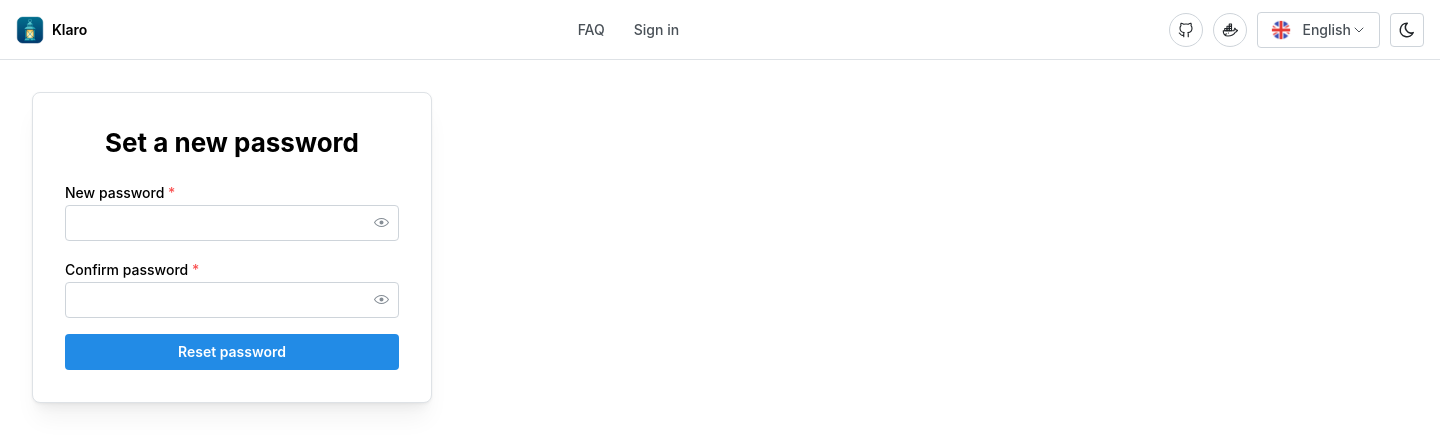
Scenario: ResetPassword › shows validation error when passwords do not match
In the password field labelled "New password *": (232, 223) [66, 206, 398, 240], type "password1"
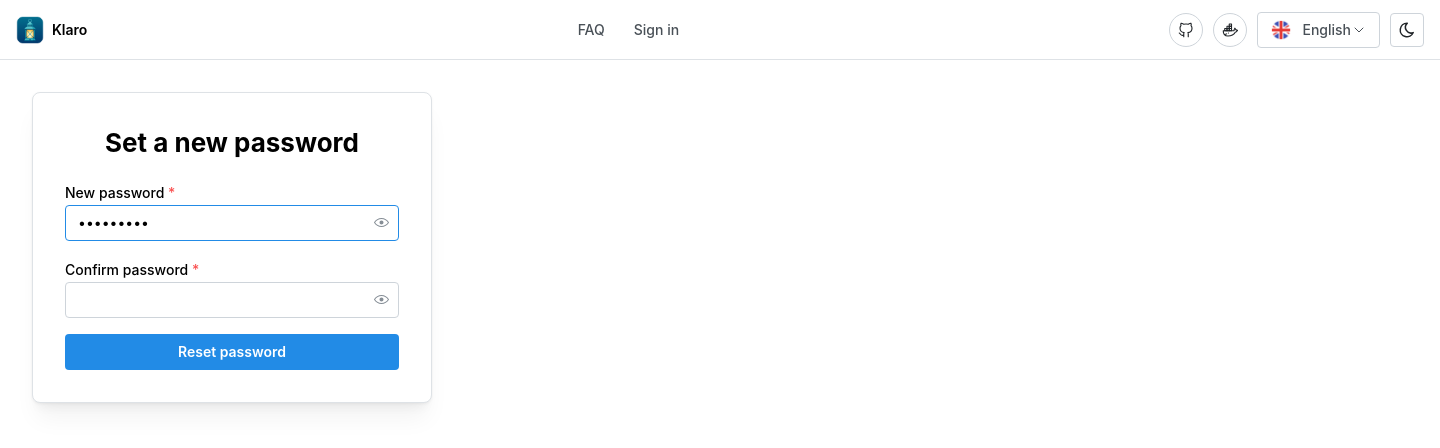
In the password field labelled "Confirm password *": (232, 300) [66, 283, 398, 317], type "password2"
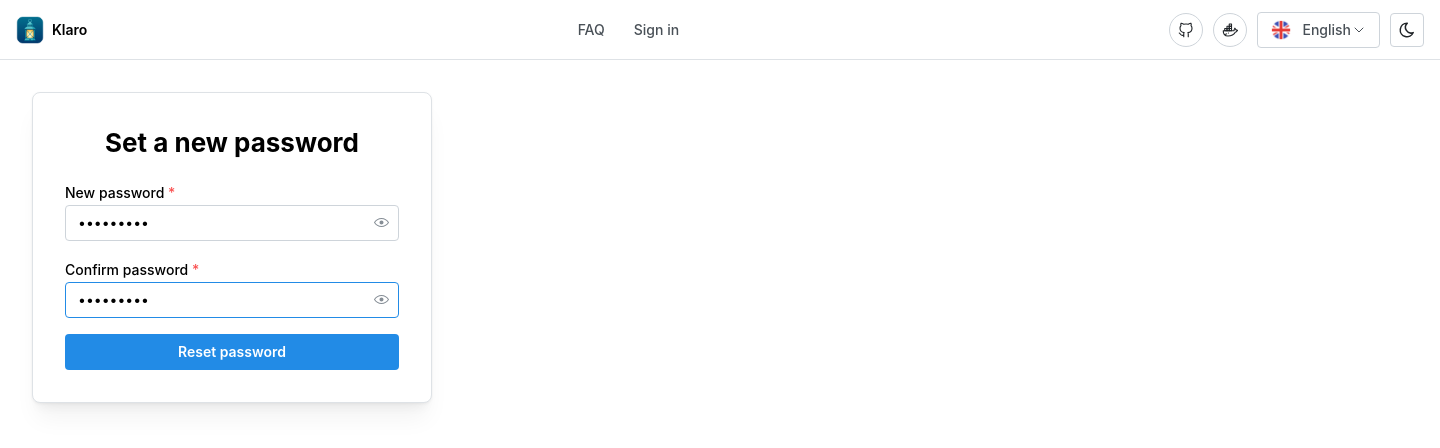
Click the button "Reset password": (232, 352) [65, 334, 399, 370]
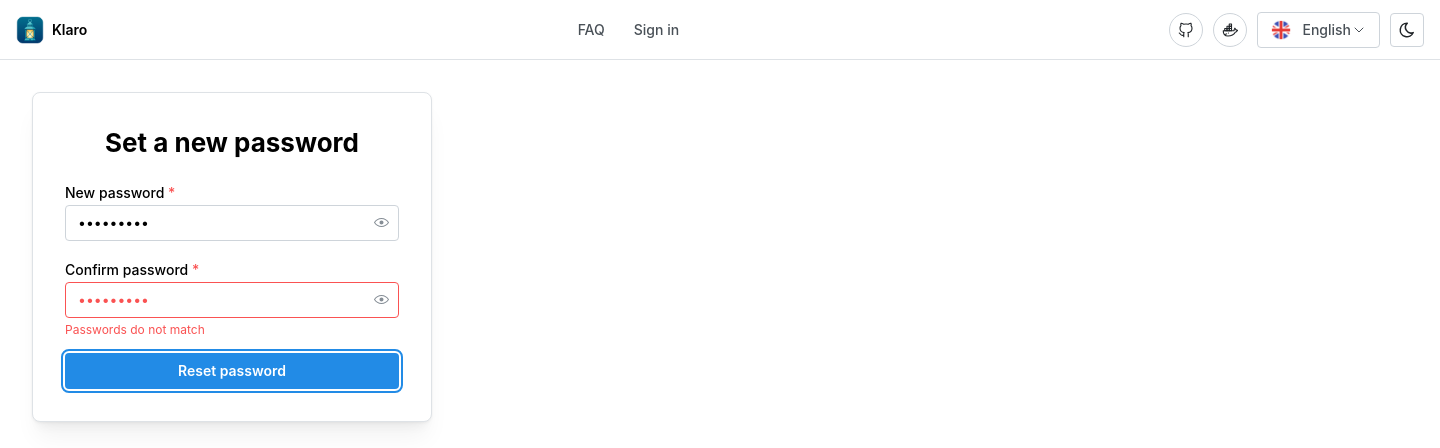
expect the text "Passwords do not match" is shown: met, box [65, 322, 205, 337]
